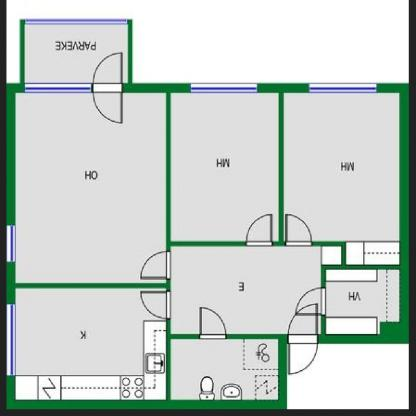door: (92, 49, 130, 131), (286, 307, 325, 376), (198, 304, 226, 344), (137, 290, 169, 320), (286, 215, 315, 248), (245, 216, 274, 247), (298, 290, 329, 318), (142, 251, 168, 280)
window: (24, 18, 125, 29), (2, 304, 16, 376), (28, 82, 90, 96), (308, 82, 378, 94), (190, 81, 256, 92), (8, 223, 12, 264)
zone: (16, 93, 166, 284), (285, 93, 398, 240), (15, 289, 166, 399), (172, 93, 277, 239), (169, 248, 318, 332), (170, 340, 277, 398), (25, 24, 127, 83), (327, 269, 396, 322)
